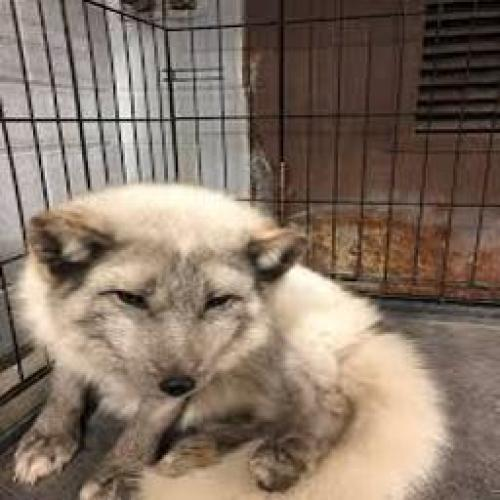arctic_fox-endangered: (10, 181, 438, 489)
